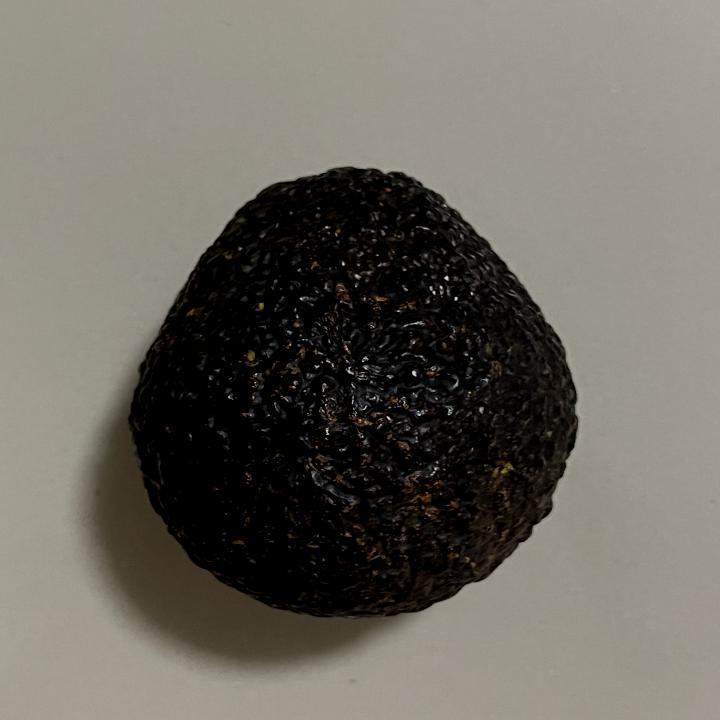Level1: (112, 152, 596, 633)
